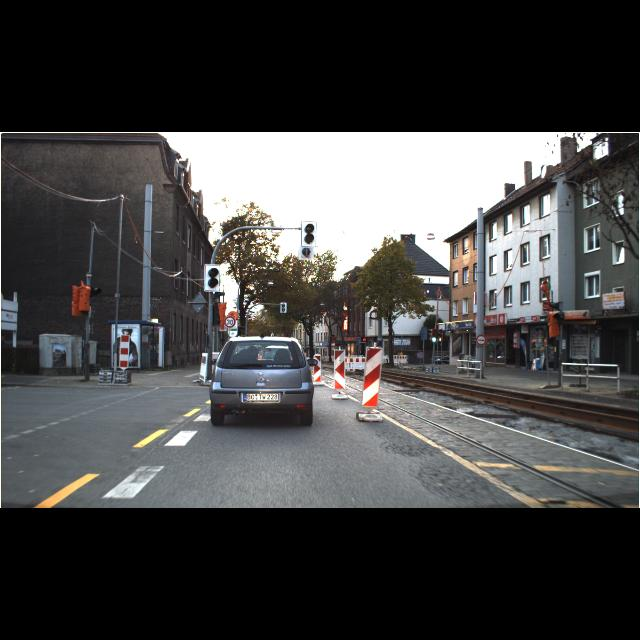prohibitory: (223, 315, 235, 327), (476, 334, 486, 346)
